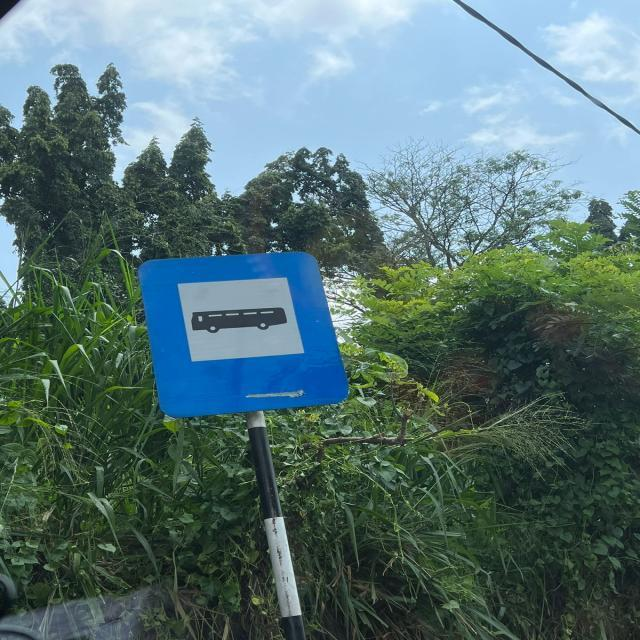bus_stop: (135, 245, 355, 420)
